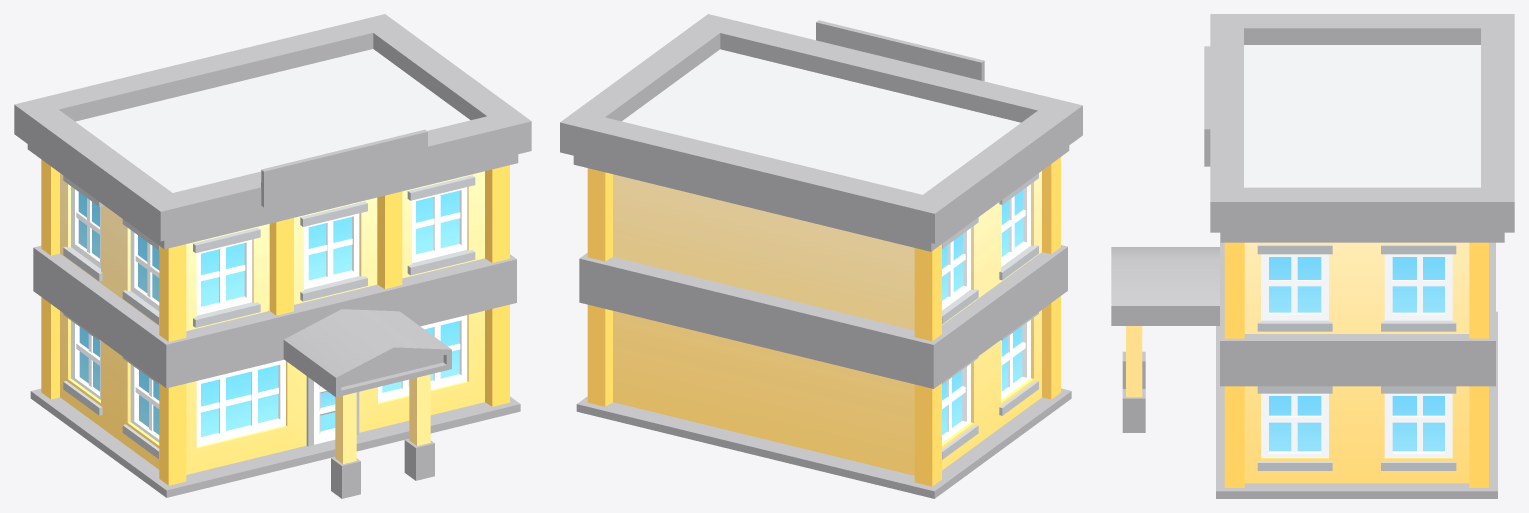
The model's file is city2-building-living-31.glb.
3 views of the same model, side by side, from view 1: azimuth 30°, elevation 25°; view 2: azimuth 150°, elevation 25°; view 3: azimuth 270°, elevation 25° (orthographic). The views are drawn at different scales.
Visible parts, largest first — view 1: Building_Living_31; view 2: Building_Living_31; view 3: Building_Living_31.
Part boxes in pixels (x1,y1,x2,y2): Building_Living_31: (14,14,531,498); Building_Living_31: (560,14,1082,498); Building_Living_31: (1111,14,1514,498).
Size of the model in its own units: 10.33 by 8.2 by 9.38.
1 material, 1 textured.
